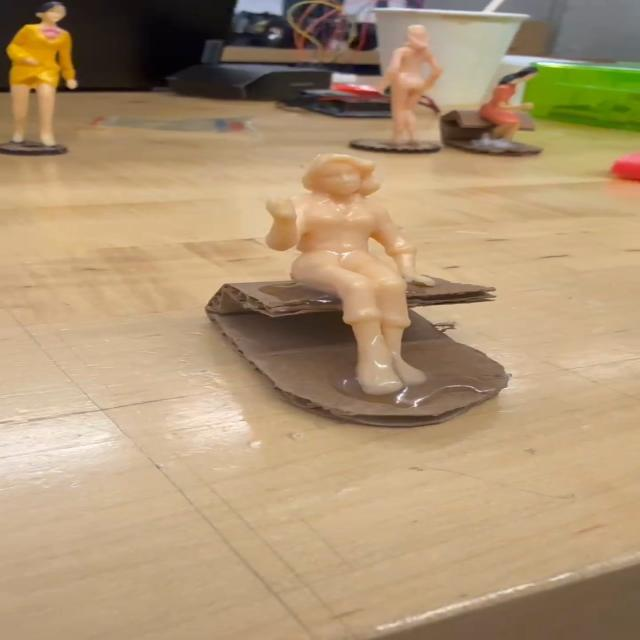Unauthorized: (259, 156, 445, 393)
